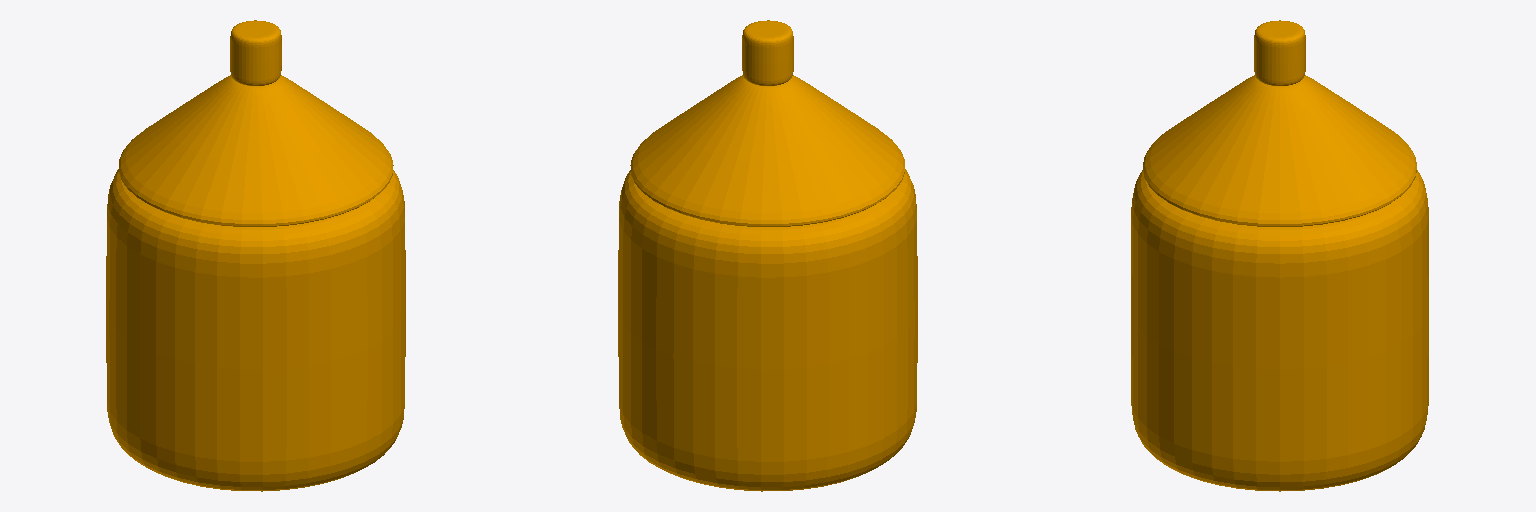
robot.urdf — object_743793146:

		<robot name="object_743793146">
			<link name="link_object_743793146">
				<visual>
					<geometry>
						<mesh filename="temp_object_743793146.obj" />
					</geometry>
				</visual>

				<collision>
					<geometry>
						<mesh filename="temp_object_743793146.obj" />
					</geometry>
				</collision>
				
				<inertial>
					<origin rpy="0 0 0" xyz="0 0 0"/>
					<mass value="0.3" />
					<inertia ixx="0.3" ixy="0" ixz="0" iyy="0.3" iyz="0" izz="0.3" />
				</inertial>
			</link>
		</robot>
		

--- Render facts (derived) ---
3 views of the same robot in one strip: view 1: azimuth 30°, elevation 25°; view 2: azimuth 150°, elevation 25°; view 3: azimuth 270°, elevation 25° (orthographic).
Robot: object_743793146 — 1 links, 0 joints (none); root link link_object_743793146; default pose: all joints at 0.
Links seen in each view (by area): view 1: link_object_743793146; view 2: link_object_743793146; view 3: link_object_743793146.
Boxes of the visible links, box(x1,y1,x2,y2) form: link_object_743793146: box(106, 20, 405, 491); link_object_743793146: box(618, 20, 917, 491); link_object_743793146: box(1131, 20, 1428, 491).
Bounding box of the posed robot: 0.1045 × 0.1045 × 0.1585 m (x, y, z).
1 mesh visuals loaded from 1 distinct referenced files (1 OBJ).
